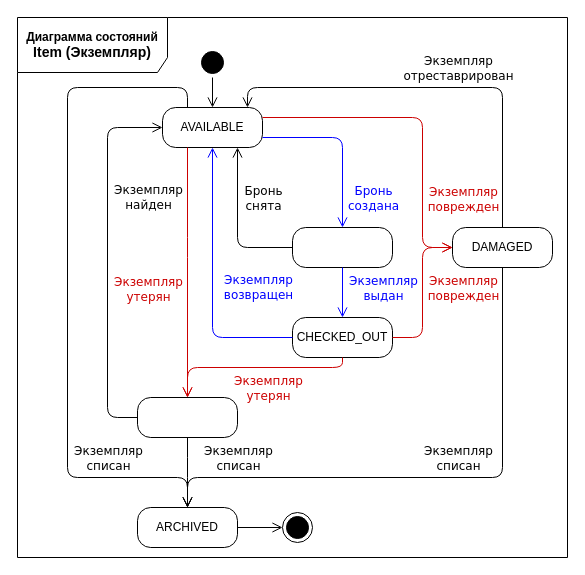
Image size: 585x575. Some labels were removed from this diagram. Here are the shapes that lost their labels. From the top down, the centre of each, then its label:
[342,247]: RESERVED
[187,417]: LOST
